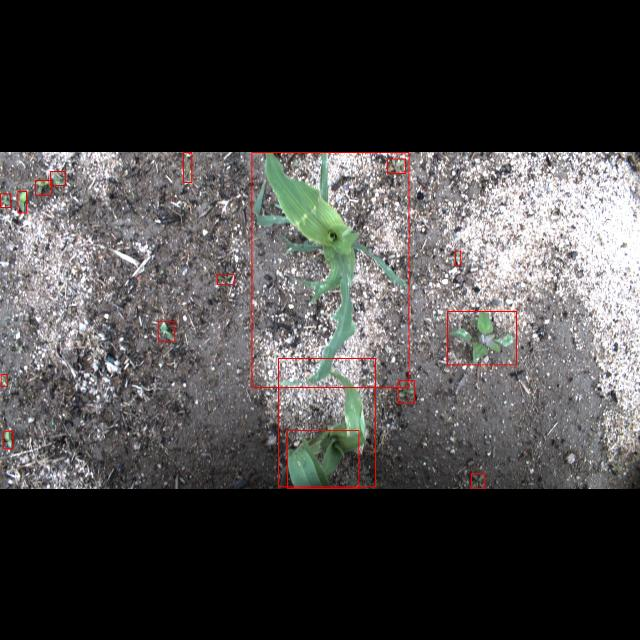crop: (252, 151, 408, 387), (278, 358, 376, 487), (287, 430, 359, 488)
weed: (448, 310, 516, 364), (398, 381, 414, 404), (158, 321, 174, 341), (387, 158, 405, 172), (184, 151, 192, 181), (50, 171, 66, 185), (18, 190, 27, 212), (36, 180, 50, 194), (218, 273, 235, 283), (472, 474, 484, 488), (4, 431, 12, 449), (0, 193, 10, 207), (1, 374, 8, 386), (455, 250, 461, 264)
